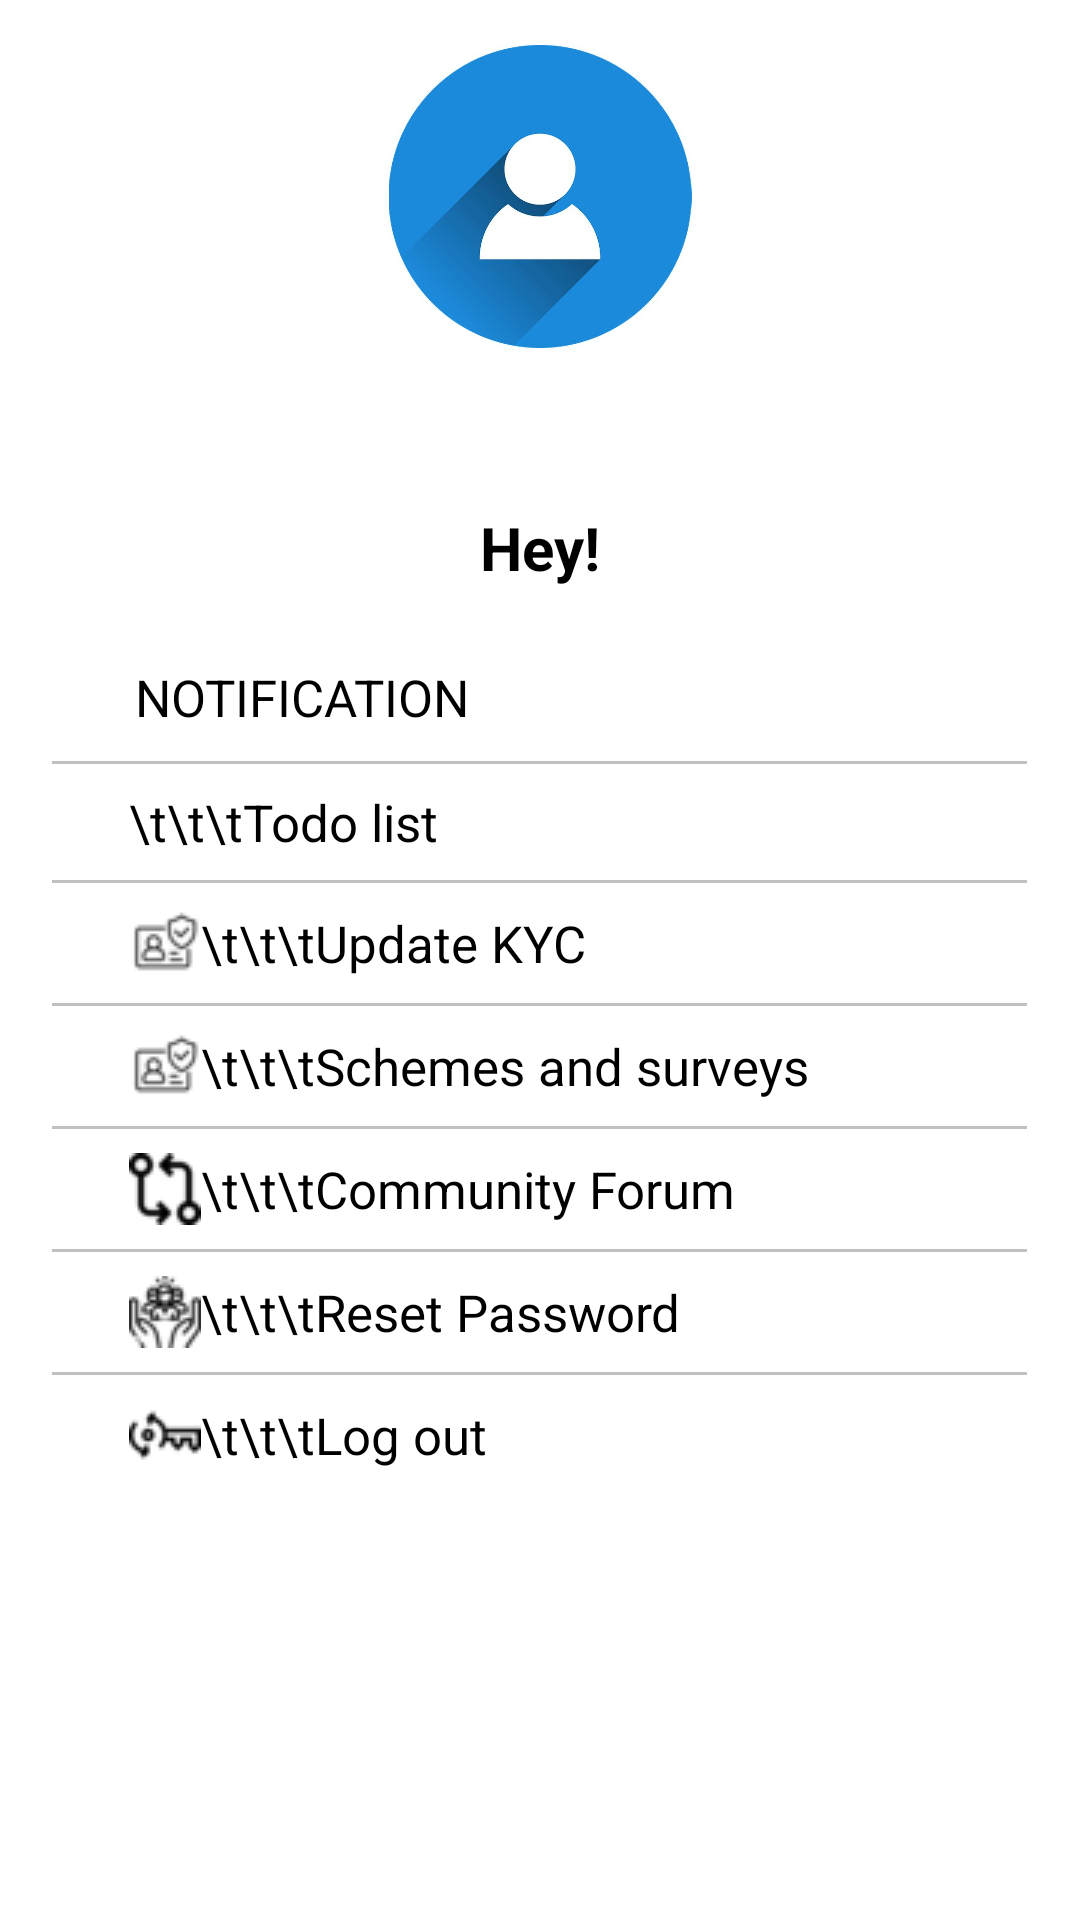

Icons on this 1080px×1920px Android screen, each with its box as (x1, y1, x2, y2):
person: (389, 45, 692, 348)
